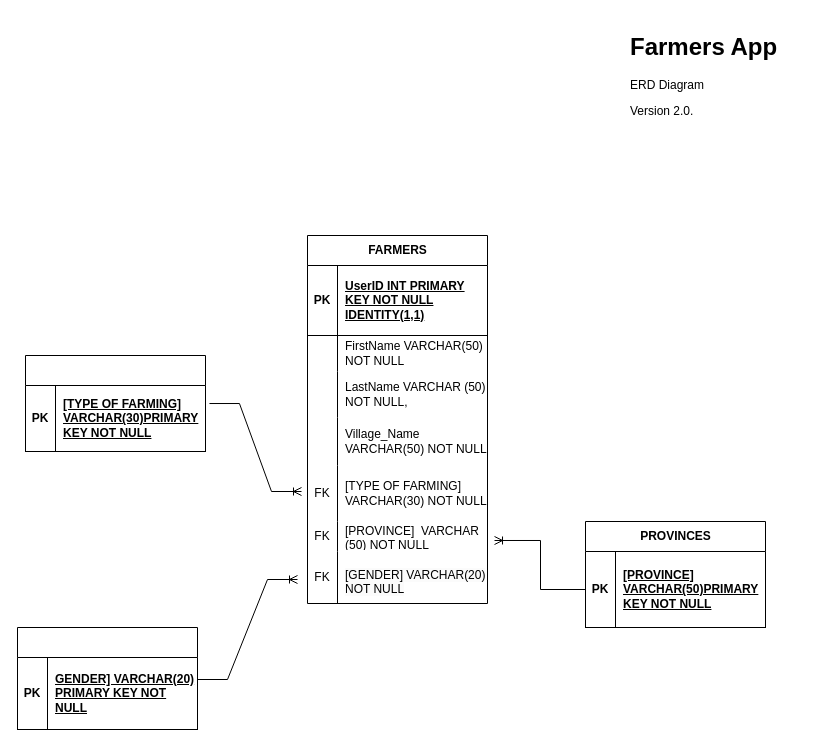
The diagram is 833 pixels wide and 747 high, and some of its shapes have lost their labels. The box of each missing label's shape, as (x1, y1, x2, y2) in pixels:
FARM_TYPES: (24, 354, 206, 452)
GENDERS: (16, 626, 198, 730)
